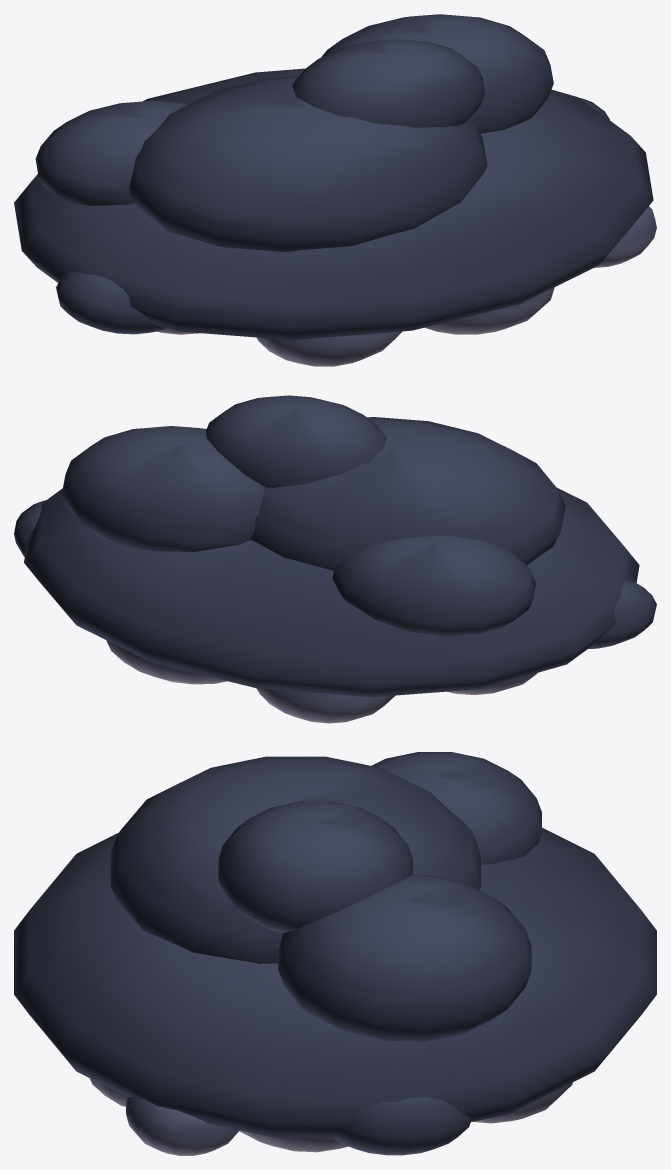
The model's file is zack_cloud_top.glb.
3 views of the same model, one above another, from view 1: azimuth 30°, elevation 25°; view 2: azimuth 150°, elevation 25°; view 3: azimuth 270°, elevation 25° (orthographic). The views are drawn at different scales.
Parts seen in each view (by area): view 1: mass; view 2: mass; view 3: mass.
Part boxes in pixels (x1,y1,x2,y2): mass: [14, 14, 656, 366]; mass: [14, 395, 656, 723]; mass: [14, 752, 656, 1155].
Bounding box in the file's own units: 7.99 × 2.96 × 6.47.
Materials: 1 (1 with a texture image).
